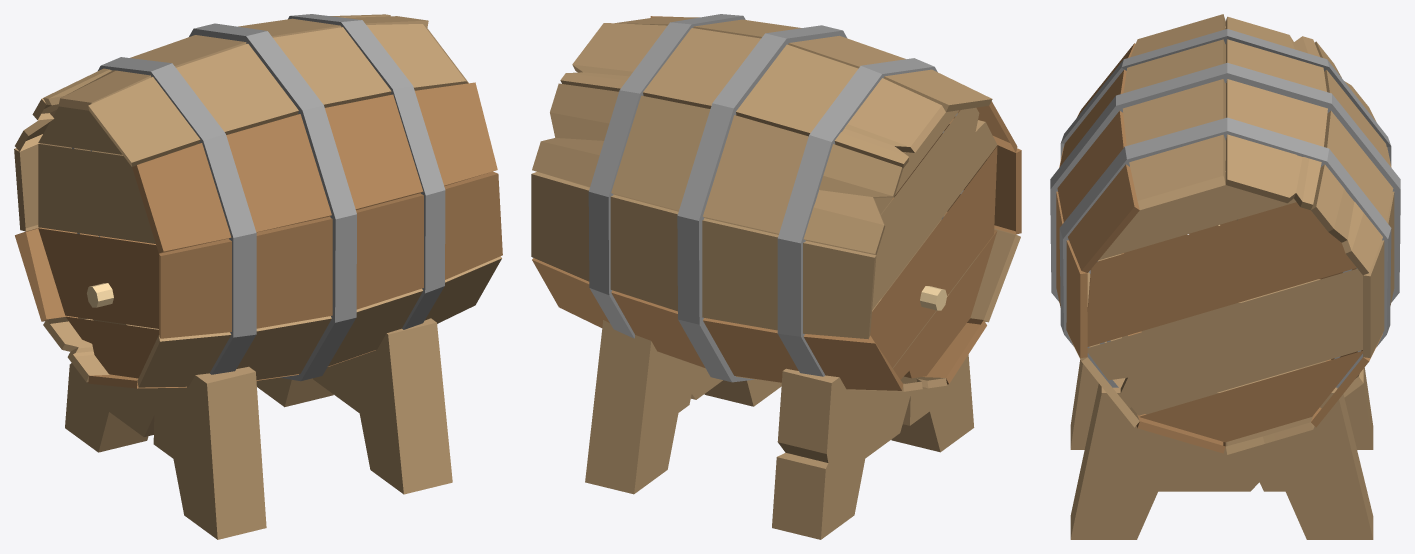
The model's file is barrel_wine.fbx.
3 views of the same model, side by side, from view 1: azimuth 30°, elevation 25°; view 2: azimuth 150°, elevation 25°; view 3: azimuth 270°, elevation 25° (orthographic).
Parts seen in each view (by area): view 1: barrel_wine; view 2: barrel_wine; view 3: barrel_wine.
Part boxes in pixels (<box>): barrel_wine: <box>14,14,502,539</box>; barrel_wine: <box>531,14,1021,539</box>; barrel_wine: <box>1050,14,1400,539</box>.
Bounding box in the file's own units: 100 × 117 × 89.62.
